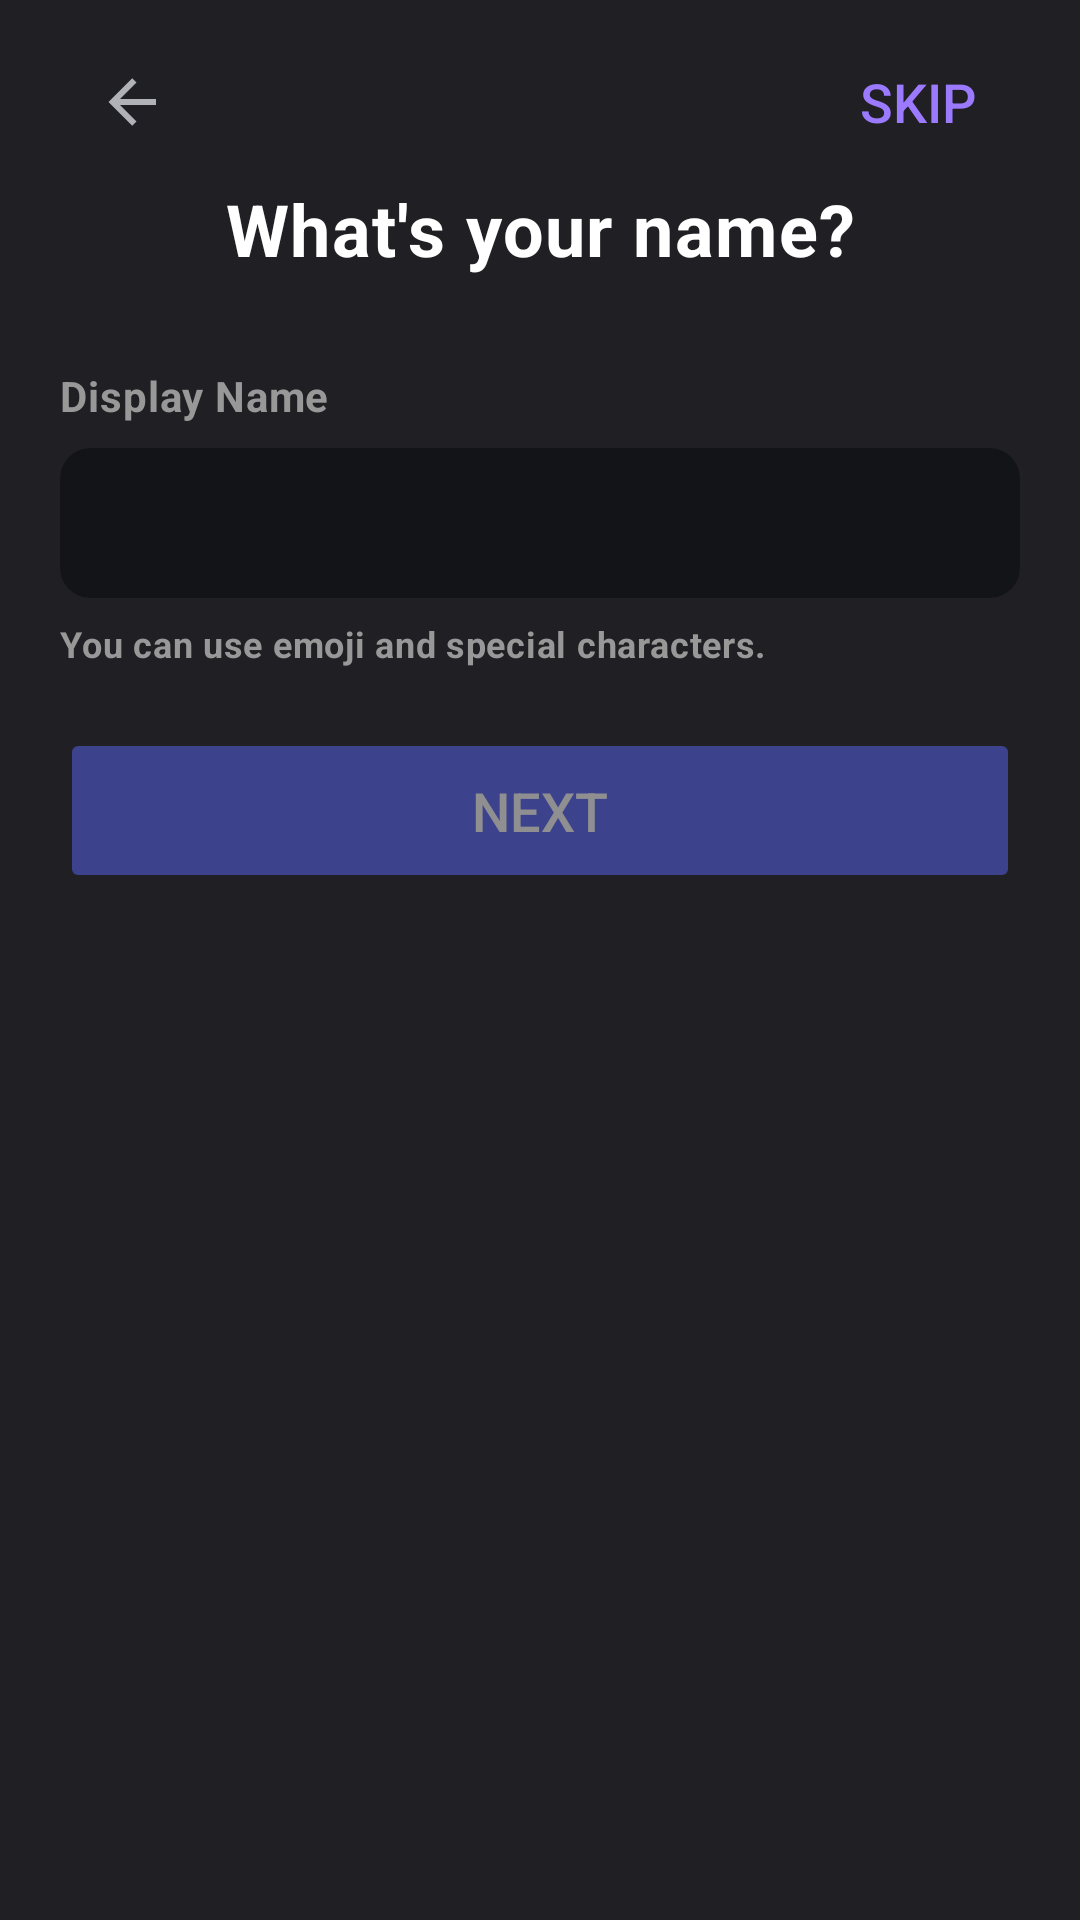

Screen size 1080 × 1920. Icon name, then its center in pixels as point (x, y):
Back: point (132, 102)
